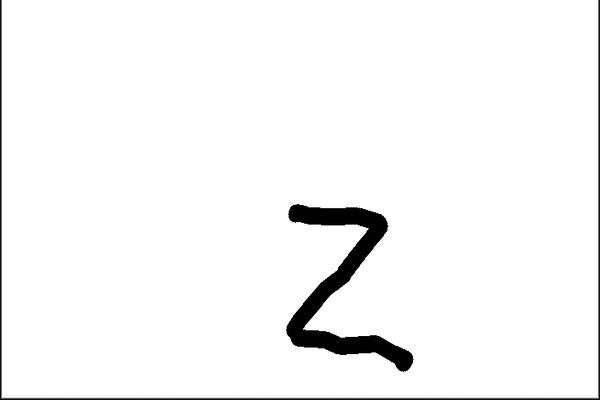Z: (278, 189, 426, 381)
